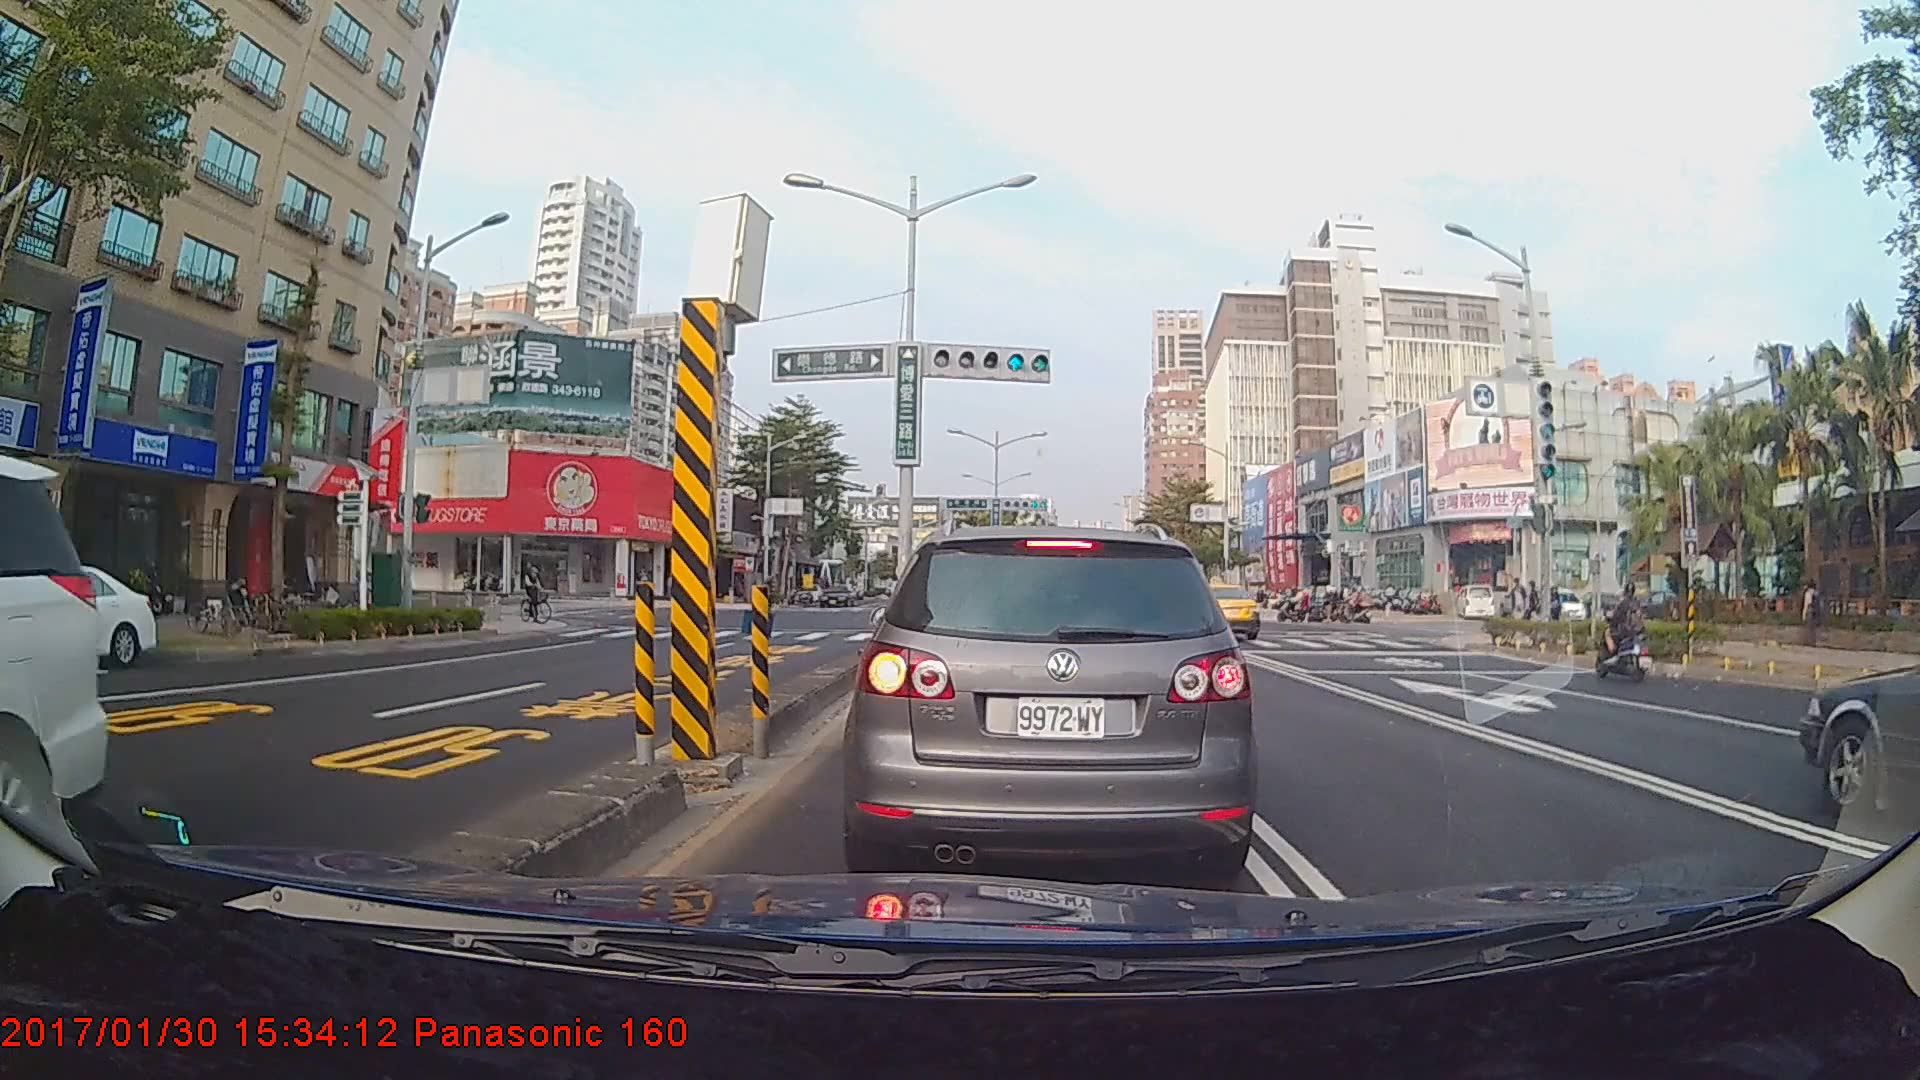pedestrian: (1800, 579, 1826, 647)
rider: (1593, 580, 1656, 685), (518, 559, 561, 629)
vehicle: (852, 520, 1250, 883), (0, 561, 159, 671), (1173, 581, 1260, 639)
